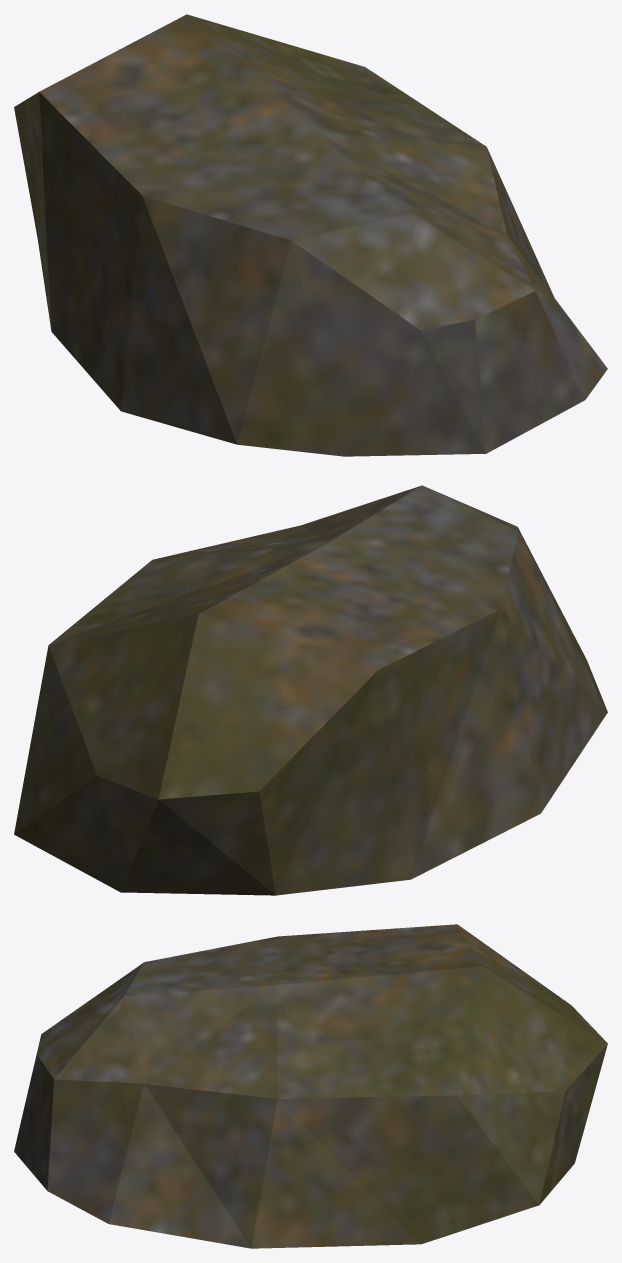
The model's file is Rock01c.obj.
The picture shows the model from 3 angles, top to bottom: view 1: azimuth 30°, elevation 25°; view 2: azimuth 150°, elevation 25°; view 3: azimuth 270°, elevation 25°; orthographic projection. The views are drawn at different scales.
Visible parts, largest first — view 1: Rock01; view 2: Rock01; view 3: Rock01.
Boxes of the visible parts, left/top/right/bottom form: Rock01: left=14, top=14, right=607, bottom=456; Rock01: left=14, top=485, right=607, bottom=895; Rock01: left=14, top=924, right=607, bottom=1248.
Bounding box in the file's own units: 1.52 × 0.8879 × 2.28.
